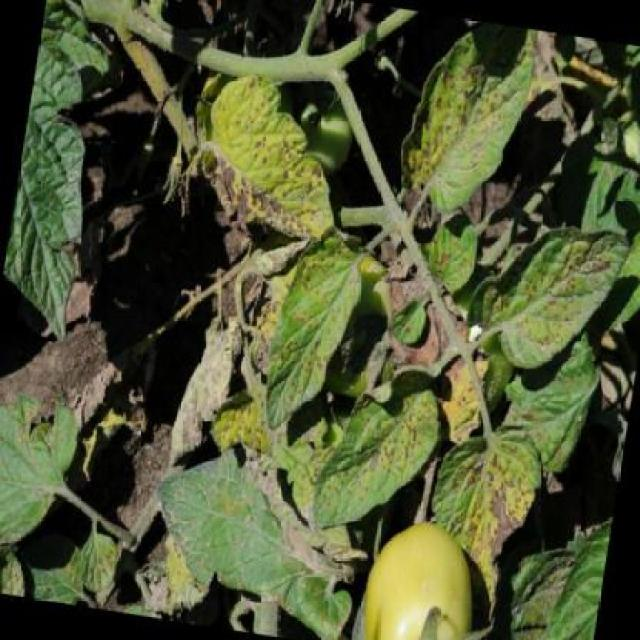Septoria leaf spot: (390, 13, 548, 225), (188, 60, 357, 257), (426, 390, 565, 618), (256, 218, 382, 442), (485, 210, 638, 381), (327, 361, 424, 528)
